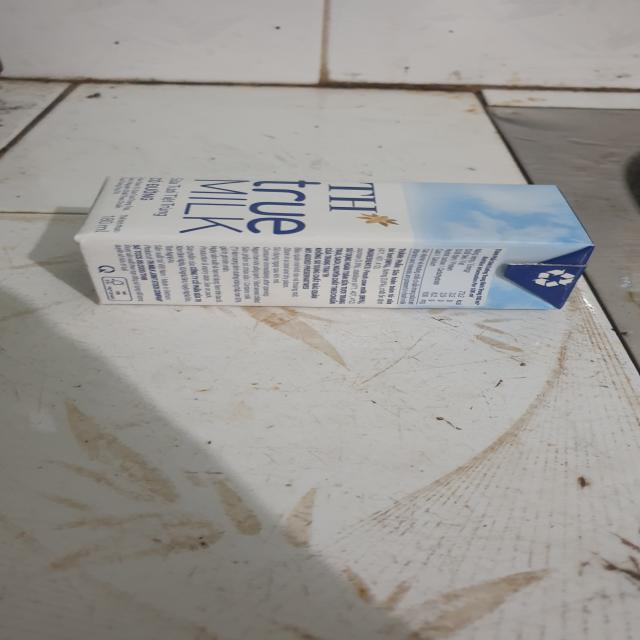TH: (72, 179, 594, 312)
